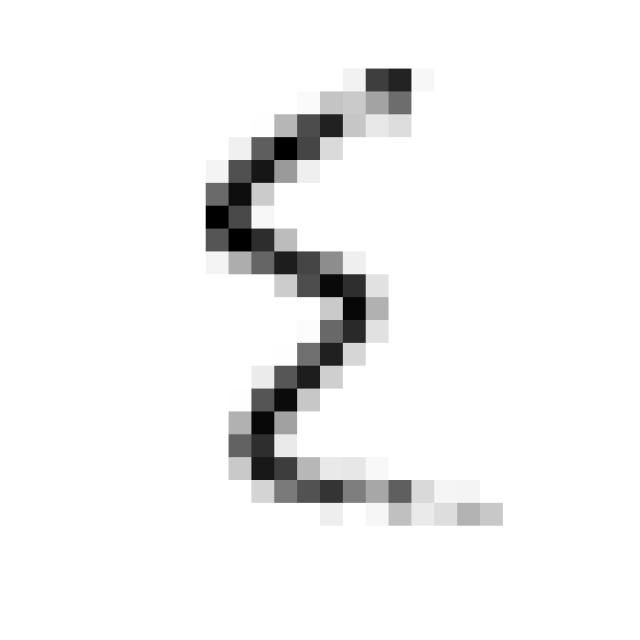4 -four-: (180, 46, 520, 541)
